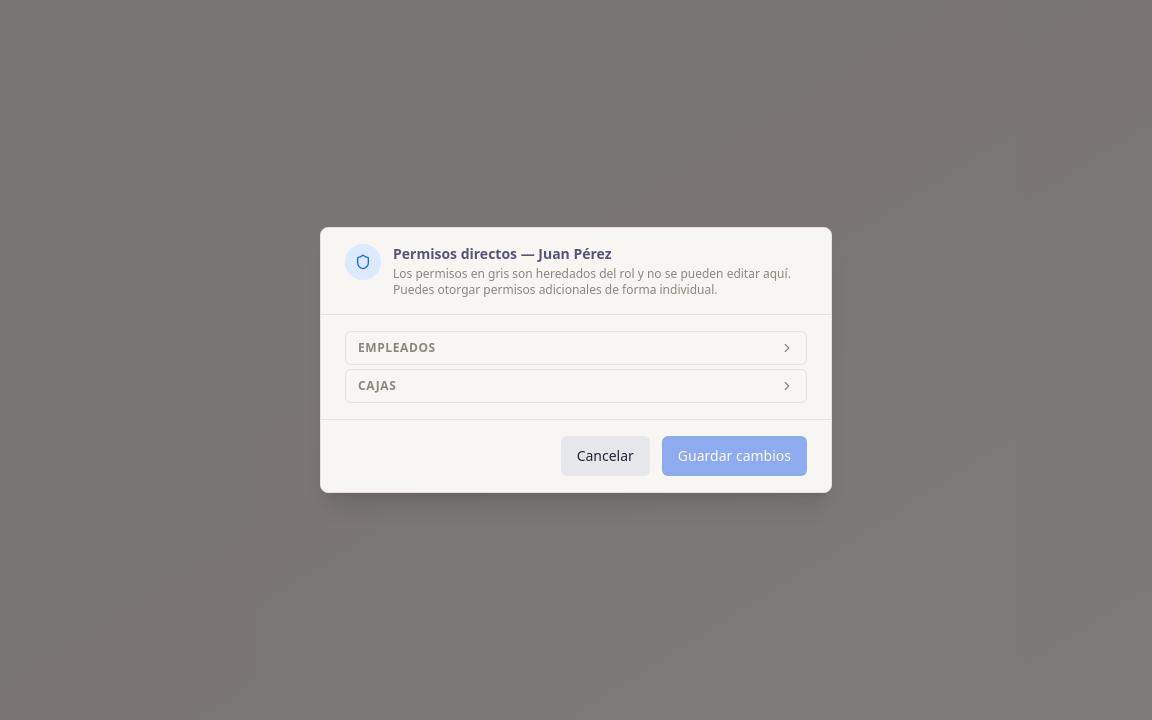
Test: PermissionManagerDialog › clicking an expanded group header collapses it
Step 1. Click the button "Empleados" → (397, 348), box [346,332,806,364]
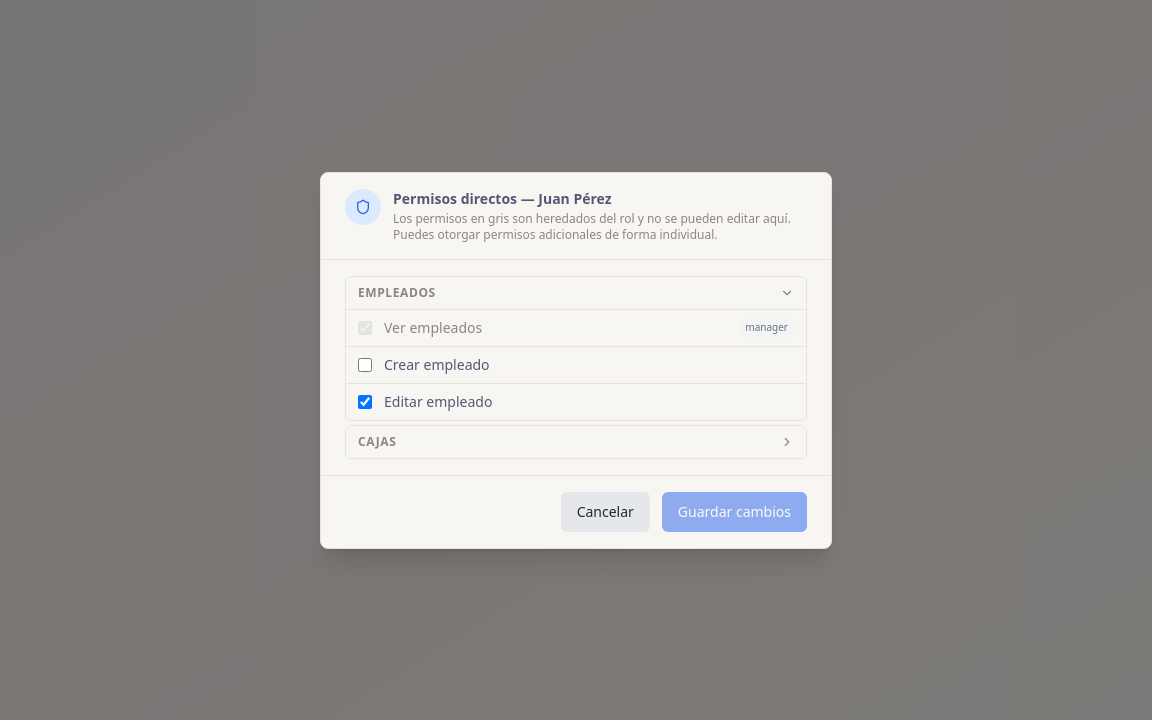
Step 2. Click the button "Empleados" → (397, 292), box [346,276,806,308]
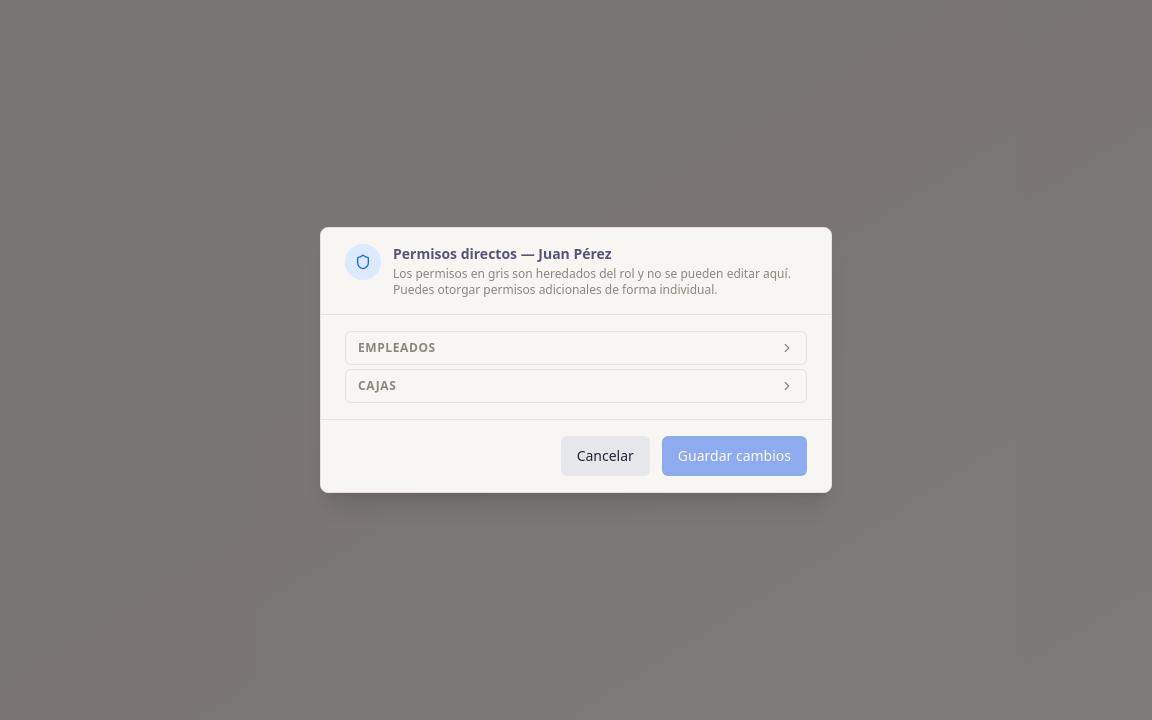
Expected: the text "Ver empleados" is gone
